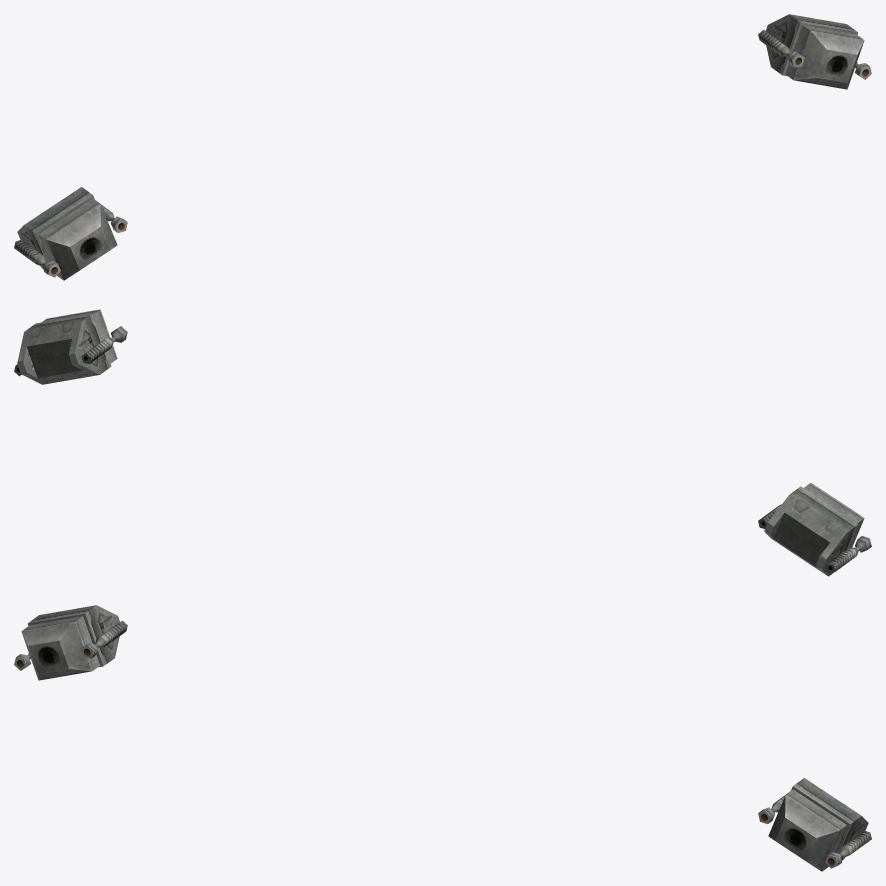
Rendered from hutt_fighter_light_weapon_s03_l0.fbx.
3 views of the same model, one above another, from view 1: azimuth 30°, elevation 25°; view 2: azimuth 150°, elevation 25°; view 3: azimuth 330°, elevation 25° (orthographic).
Parts seen in each view (by area): view 1: mesh_node; view 2: mesh_node; view 3: mesh_node.
Boxes of the visible parts, bbox=[...] form: mesh_node: bbox=[14, 14, 871, 280]; mesh_node: bbox=[14, 309, 871, 576]; mesh_node: bbox=[14, 605, 871, 871].
Bounding box in the file's own units: 3.61 × 0.3037 × 0.3227.
Materials: 1 (1 with a texture image).
